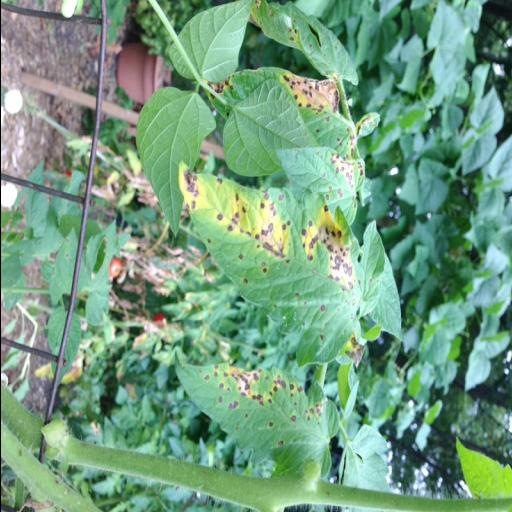Septoria: (178, 162, 356, 336), (179, 353, 339, 461), (268, 146, 360, 226)
